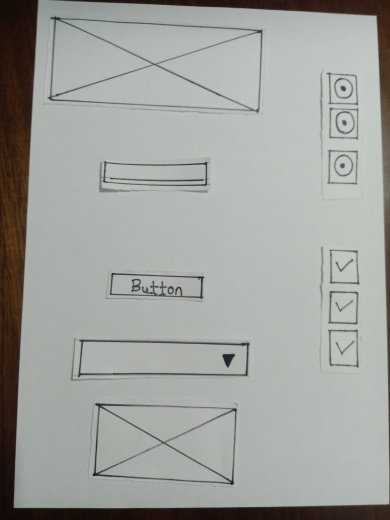button: (110, 276, 204, 295)
checkbox: (328, 250, 358, 283), (332, 331, 355, 363), (331, 293, 356, 321)
dropdown: (76, 341, 245, 375)
img: (55, 17, 259, 108), (102, 403, 234, 483)
radio: (328, 112, 360, 142), (328, 75, 355, 105), (329, 152, 359, 179)
text: (106, 160, 208, 187)
